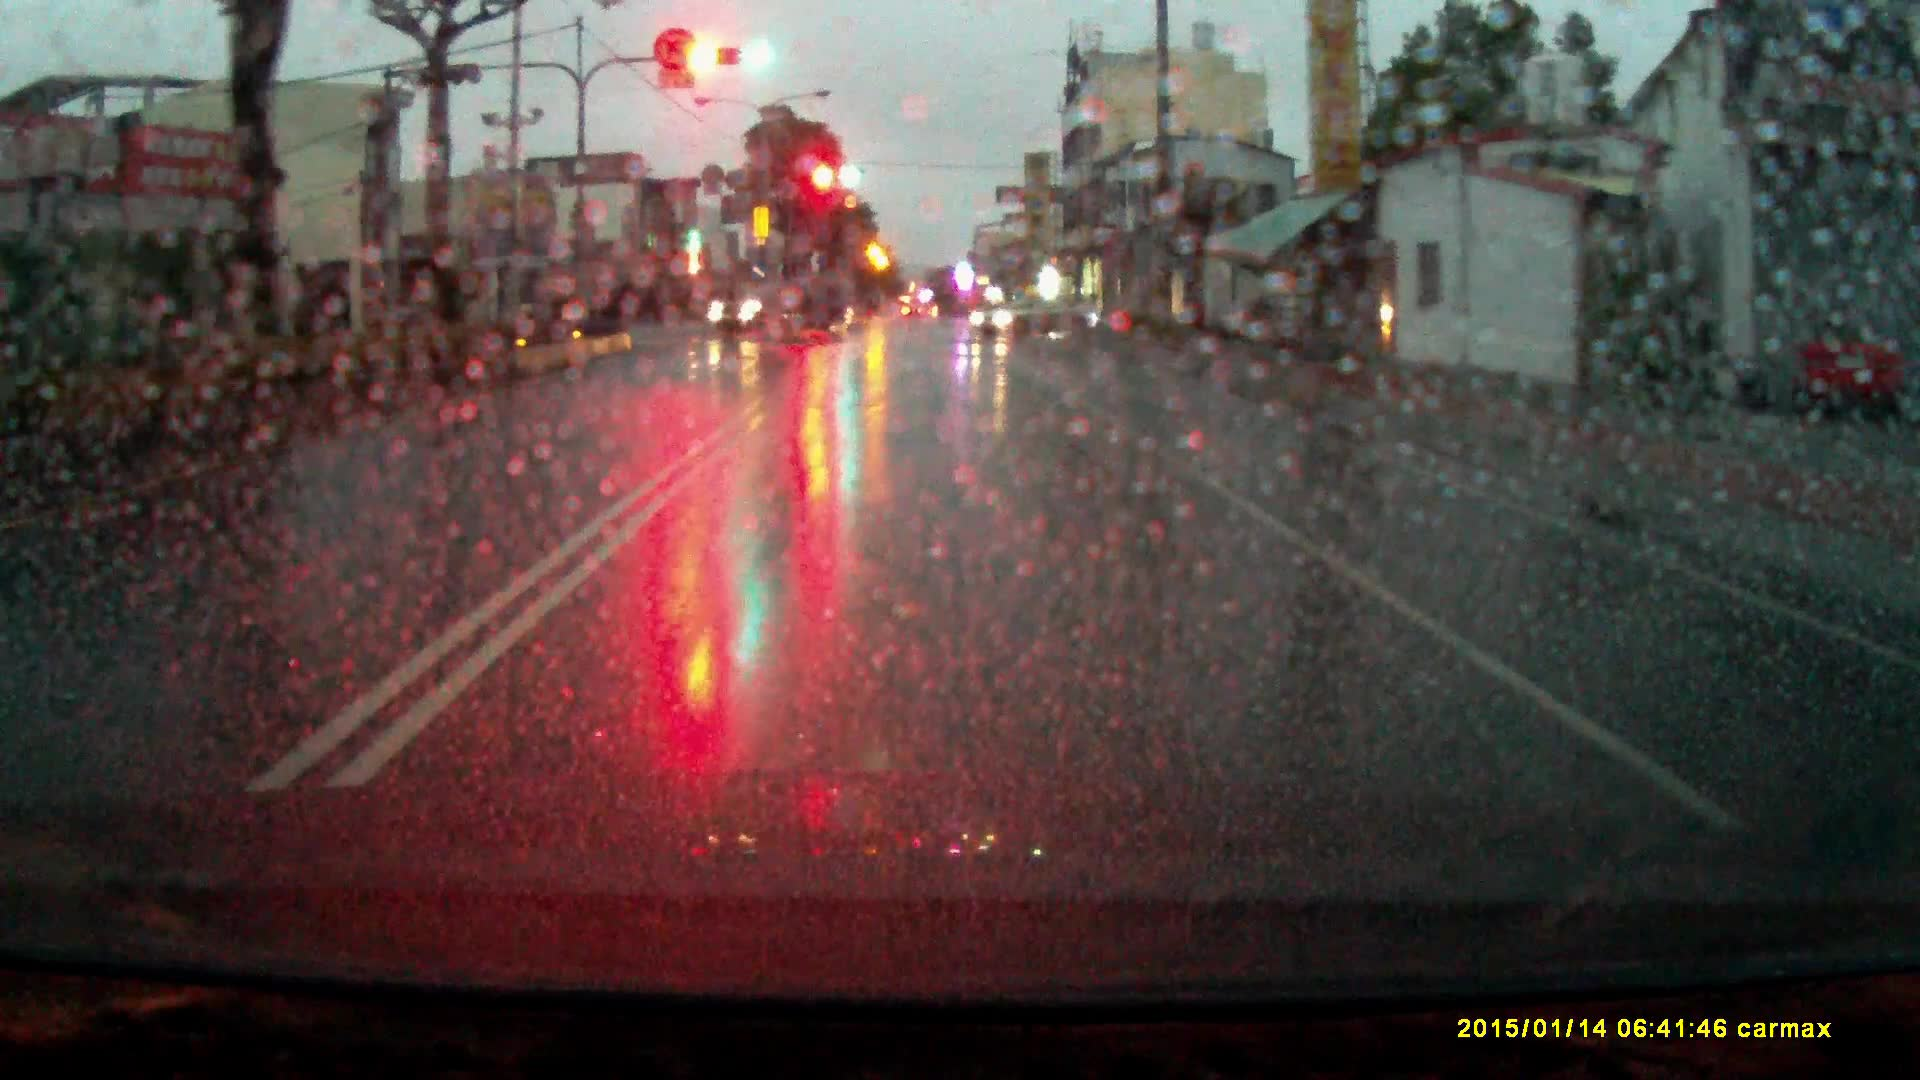vehicle: (707, 274, 855, 347), (971, 295, 1102, 342)
